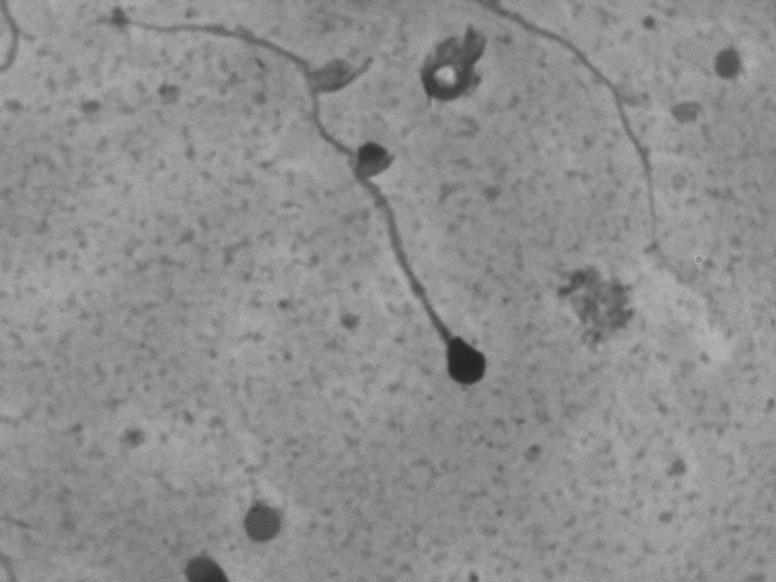Abnormal: (74, 4, 515, 409)
